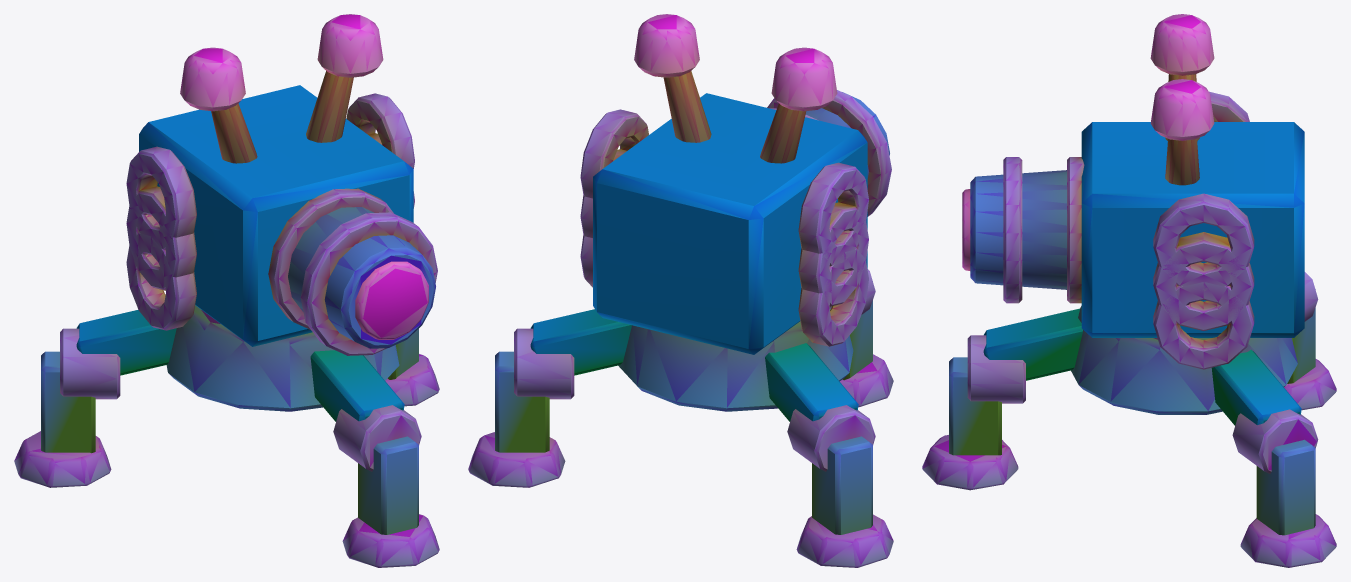
The model's file is SM_Enemy_Ranged.fbx.
3 renders of one model, left to right at view 1: azimuth 30°, elevation 25°; view 2: azimuth 150°, elevation 25°; view 3: azimuth 270°, elevation 25°, orthographic. The views are drawn at different scales.
Parts seen in each view (by area): view 1: SM_Enemy_Ranged; view 2: SM_Enemy_Ranged; view 3: SM_Enemy_Ranged.
Part boxes in pixels (x1,y1,x2,y2): SM_Enemy_Ranged: (14, 14, 439, 567); SM_Enemy_Ranged: (468, 14, 893, 567); SM_Enemy_Ranged: (922, 14, 1336, 567).
Size of the model in its own units: 0.8737 by 0.865 by 0.7809.
